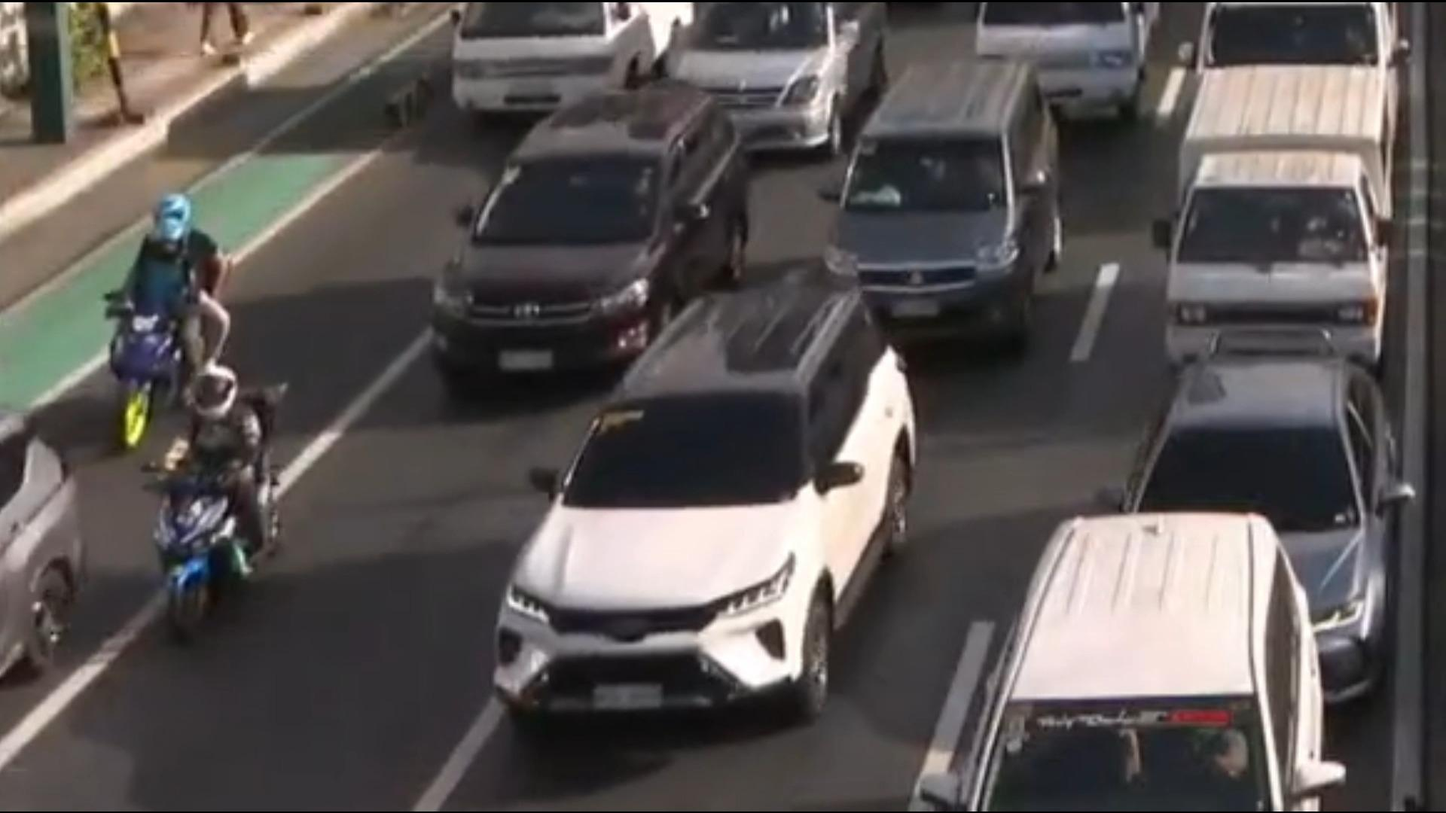Motorcycle: (116, 358, 328, 657), (94, 183, 273, 423)
Multicab: (1164, 57, 1414, 375), (429, 0, 699, 116), (954, 0, 1177, 131)
SUV: (466, 286, 949, 752), (919, 482, 1375, 813), (406, 81, 787, 419), (802, 47, 1104, 336), (662, 0, 923, 166)
Sedan: (1061, 337, 1426, 717)
Truck: (1179, 0, 1428, 83)
